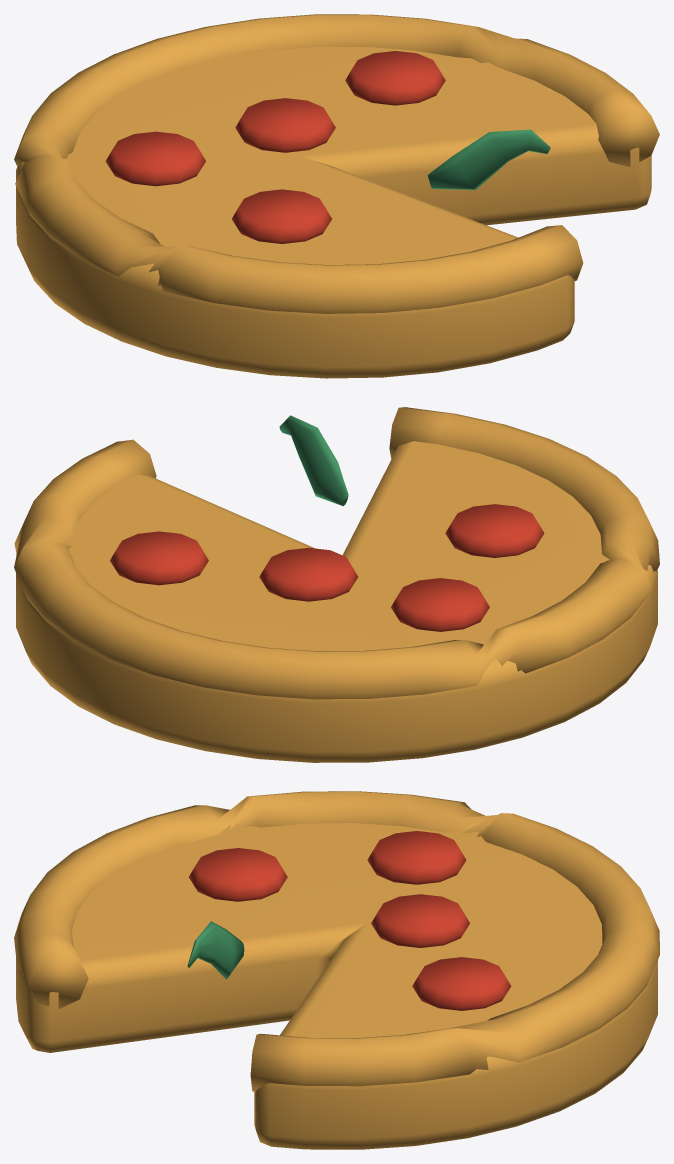
Rendered from pizza.glb.
The picture shows the model from 3 angles, top to bottom: view 1: azimuth 30°, elevation 25°; view 2: azimuth 150°, elevation 25°; view 3: azimuth 270°, elevation 25°; orthographic projection.
Parts seen in each view (by area): view 1: pizza; view 2: pizza; view 3: pizza.
Part boxes in pixels (left/top/right/bottom): pizza: left=14, top=14, right=659, bottom=378; pizza: left=14, top=407, right=659, bottom=762; pizza: left=14, top=791, right=659, bottom=1149.
Bounding box in the file's own units: 0.6904 × 0.1669 × 0.6905.
